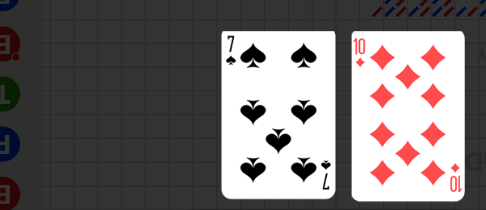10D: (449, 161, 462, 193)
7S: (225, 34, 238, 67)
